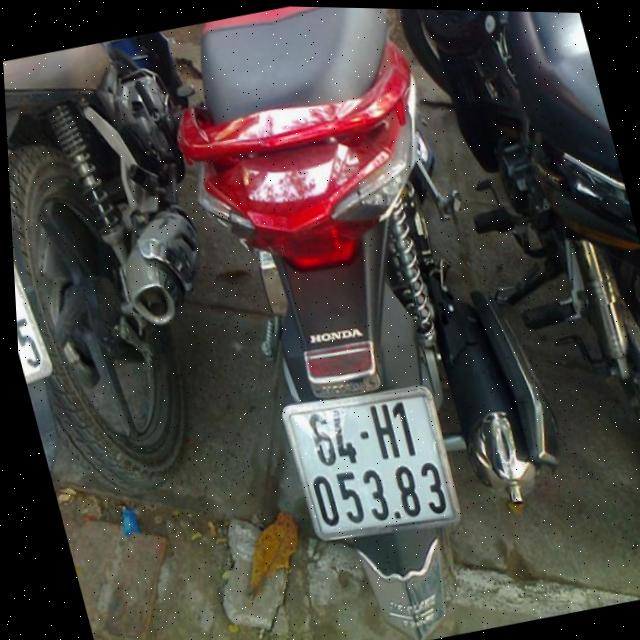motorcycle: (148, 3, 613, 640), (389, 9, 640, 618), (1, 27, 279, 525)
plate: (274, 371, 470, 558)
